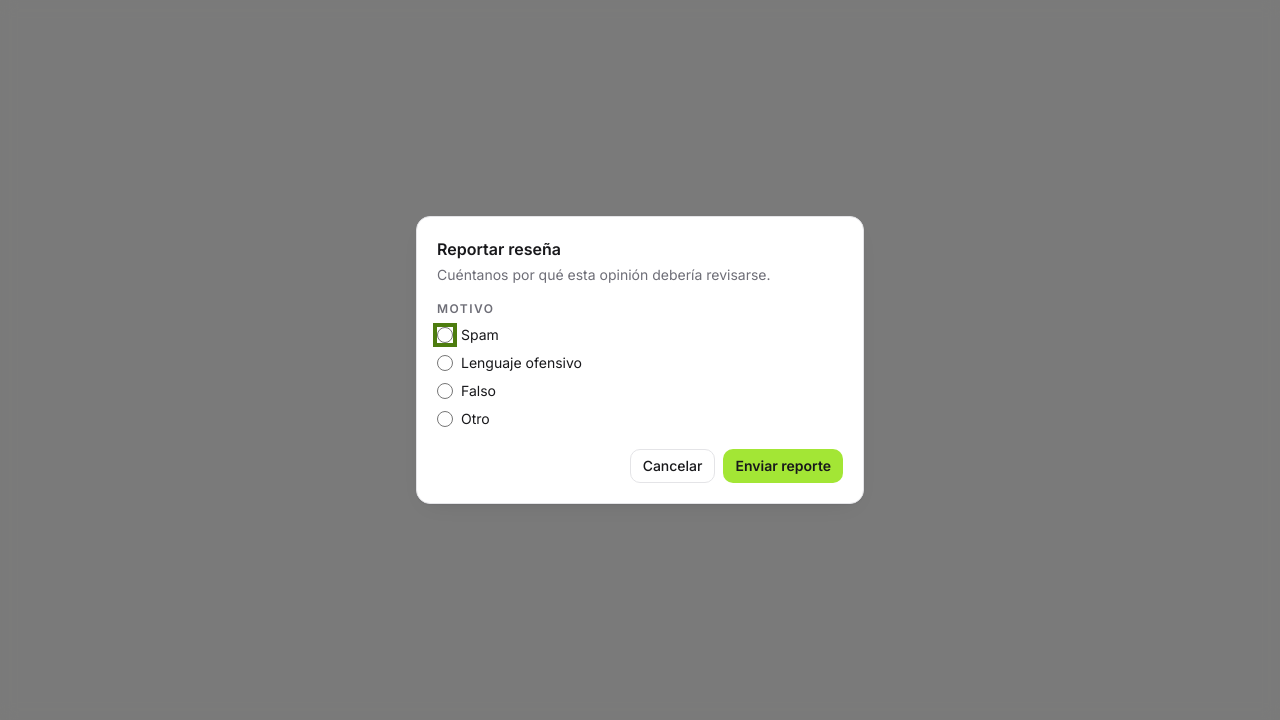
Test: ReportarResenaModal › no envía sin motivo seleccionado
What coordinates should you click on to do the following:
click the button "Enviar reporte"
I would click on:
 (783, 466)
Its box is [724,449,843,483].
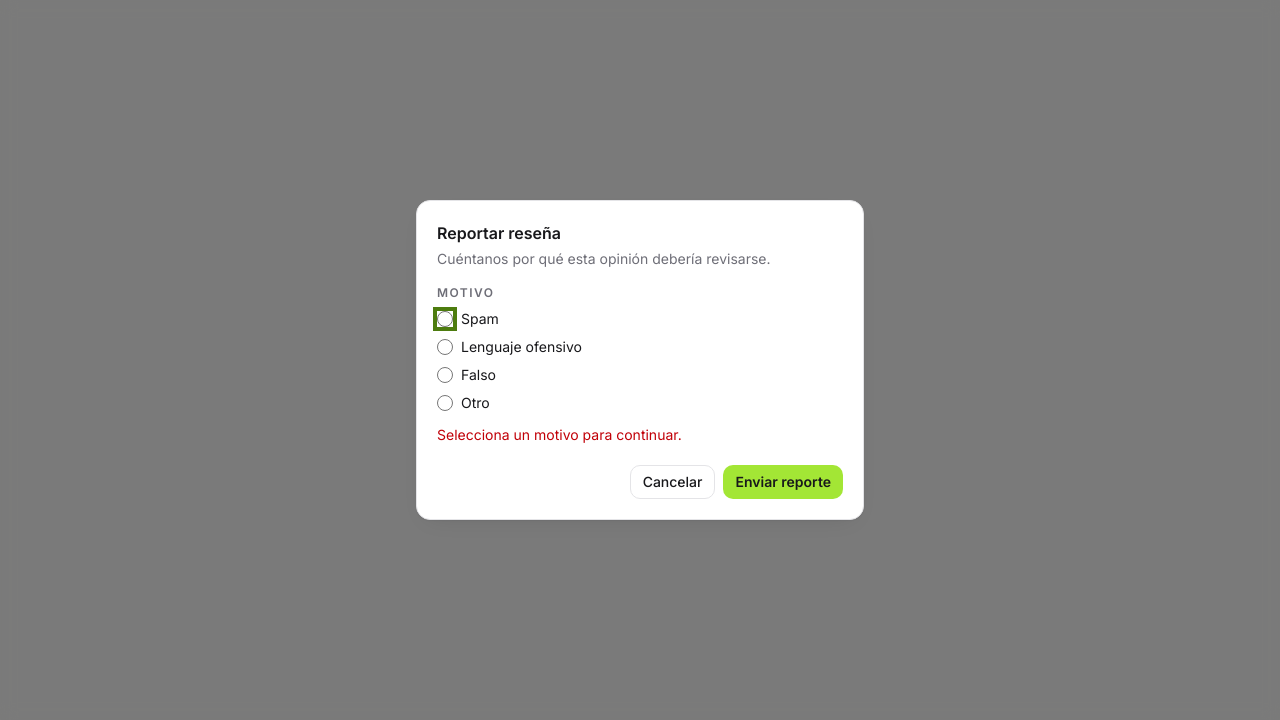
Check: the text "Selecciona un motivo para continuar." is shown, box [437,426,682,443]
